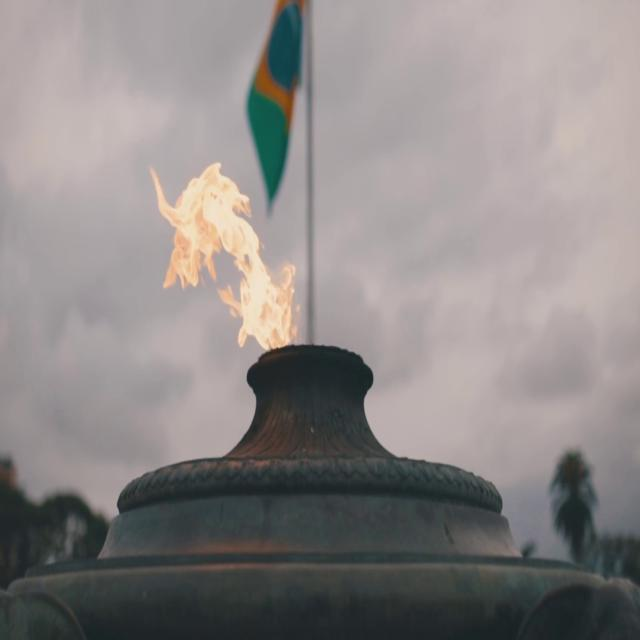Fire: (152, 159, 298, 352)
